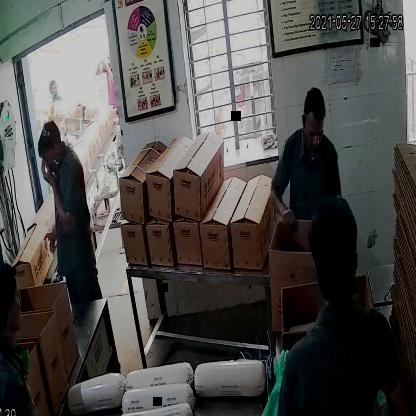no_goggles: (299, 121, 330, 145)
